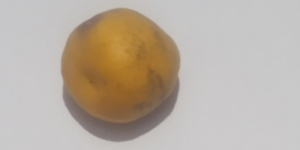BAD: (61, 8, 185, 125)
